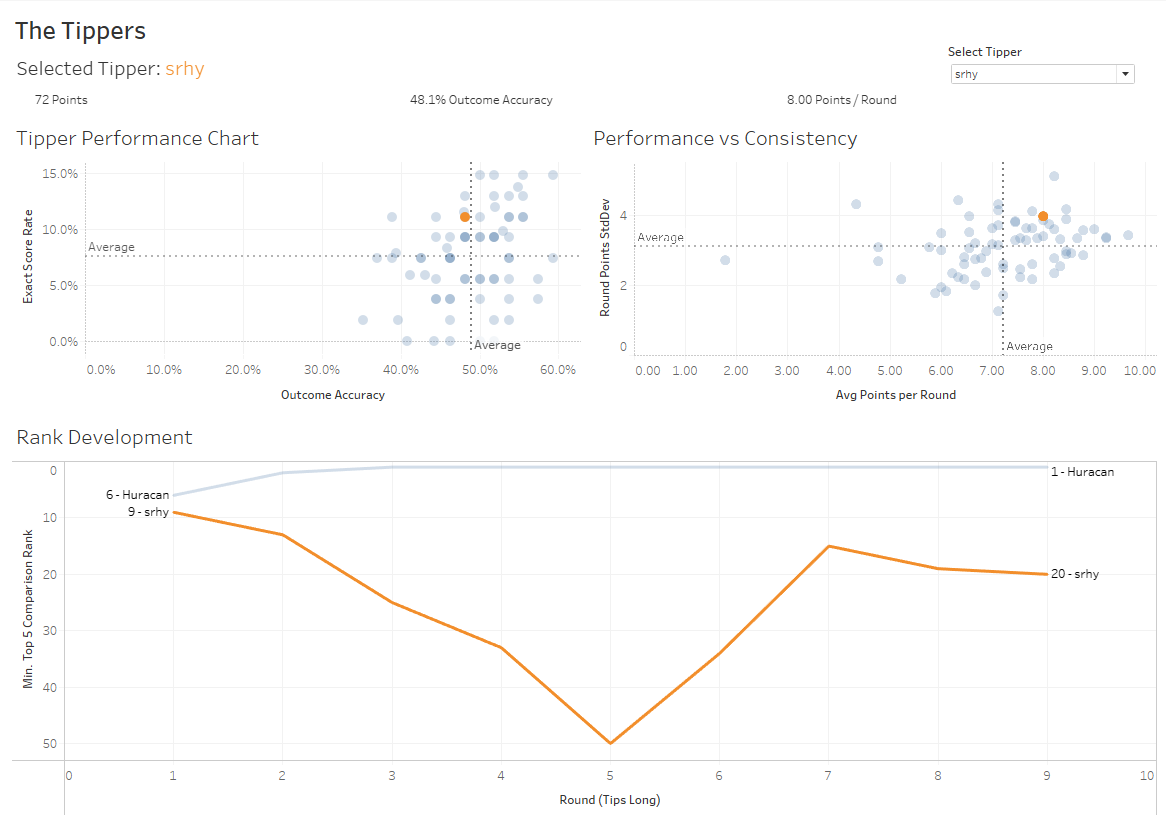

What the dashboard file says about the page in this screenshot:
{"tool":"tableau","page":{"name":"Dashboard 02 - The Tippers","canvas":[1169,827],"ordinal":1},"visuals":[{"type":"title","box":[8,8,1153,41]},{"type":"legend","title":"Tipper Performance Chart","param":"[federated.1c6lneg1dlas9j16izf9n0nta9v6].[none:Calculation_1035827962522144773:n","box":[944,16,198,22]},{"type":"parameter","param":"[Parameters].[Tip Away Goals Parameter]","box":[944,38,198,52]},{"type":"worksheet","title":"Selected Tipper Name","mark":"Automatic","box":[8,49,1153,35]},{"type":"worksheet","title":"KPI Selectd Points","mark":"Automatic","box":[8,84,385,30]},{"type":"worksheet","title":"KPI Selected Accuracy","mark":"Automatic","box":[393,84,384,30]},{"type":"worksheet","title":"KPI Avg Points per Round","mark":"Automatic","box":[777,84,384,30]},{"type":"worksheet","title":"Tipper Performance Chart","mark":"Circle","rows":["Calculation_1592303990832013318","Calculation_1035827962541887494"],"cols":["Calculation_1592303990832562183"],"box":[8,114,576.5,299]},{"type":"worksheet","title":"Performance vs Consistency","mark":"Circle","rows":["Calculation_1035827962491092995","Calculation_1035827962544406535"],"cols":["Calculation_1035827962490433537"],"box":[584.5,114,576.5,299]},{"type":"worksheet","title":"Rank Development","mark":"Line","rows":["Calculation_1035827962547757066","Calculation_1035827962547937291"],"cols":["Round (Tips Long)"],"box":[8,413,1153,406]}]}

Visuals, with their boxes in screenshot pixels (x1, y1, x2, y2), scaled from the page's 1169x827 canvas onto the 1166x827 screenshot:
title: (x1=8, y1=8, x2=1158, y2=49)
"Tipper Performance Chart" legend: (x1=942, y1=16, x2=1139, y2=38)
parameter: (x1=942, y1=38, x2=1139, y2=90)
"Selected Tipper Name" worksheet: (x1=8, y1=49, x2=1158, y2=84)
"KPI Selectd Points" worksheet: (x1=8, y1=84, x2=392, y2=114)
"KPI Selected Accuracy" worksheet: (x1=392, y1=84, x2=775, y2=114)
"KPI Avg Points per Round" worksheet: (x1=775, y1=84, x2=1158, y2=114)
"Tipper Performance Chart" worksheet (Circle marks): (x1=8, y1=114, x2=583, y2=413)
"Performance vs Consistency" worksheet (Circle marks): (x1=583, y1=114, x2=1158, y2=413)
"Rank Development" worksheet (Line marks): (x1=8, y1=413, x2=1158, y2=819)
